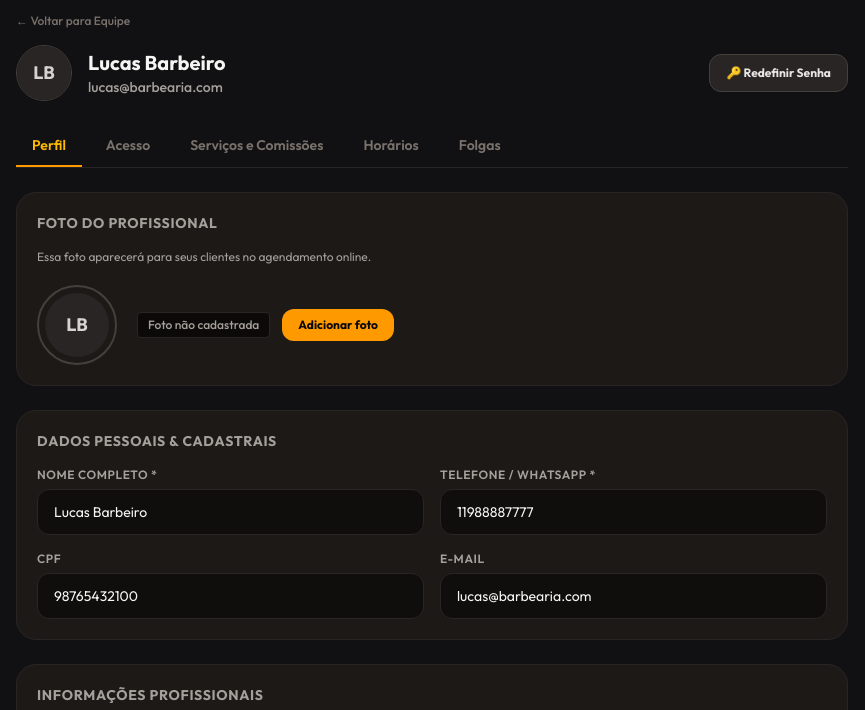
TEM BARBER — Gate P2-UX: Simplificação de Comissões › 4. Presets baseados nos CareerLevels existentes são exibidos e funcionais
Check: the heading "Lucas Barbeiro" is shown, box [88, 49, 226, 77]
Click the button "Serviços e Comissões" at (257, 146), box [174, 125, 339, 167]
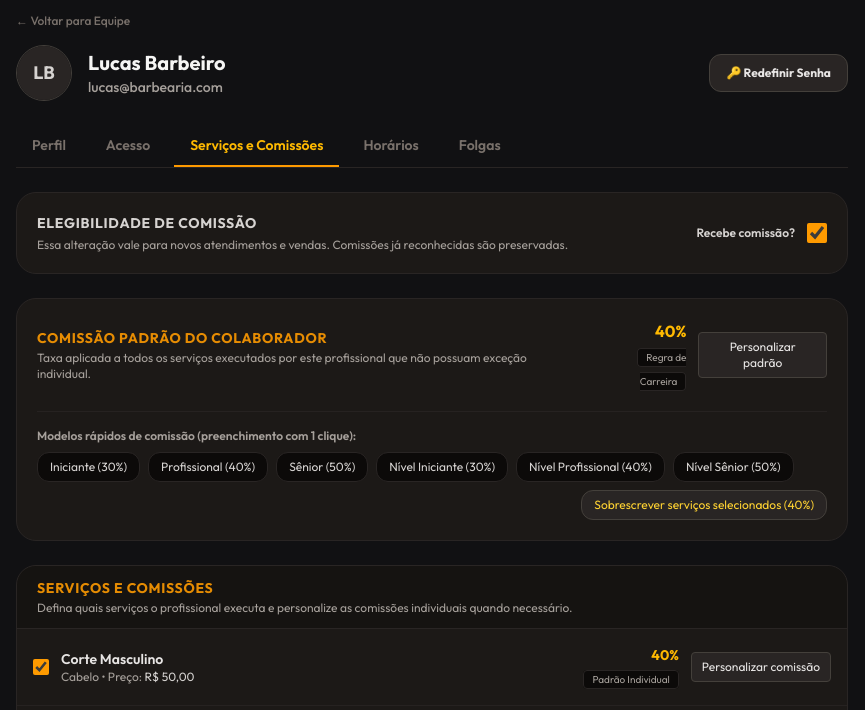
Check: the element with test id "commission-presets-section" is shown, box [37, 411, 827, 520]
Check: the button "Nível Iniciante (30%)" is shown
Click the button "Nível Iniciante (30%)" at (442, 467), box [376, 452, 508, 482]
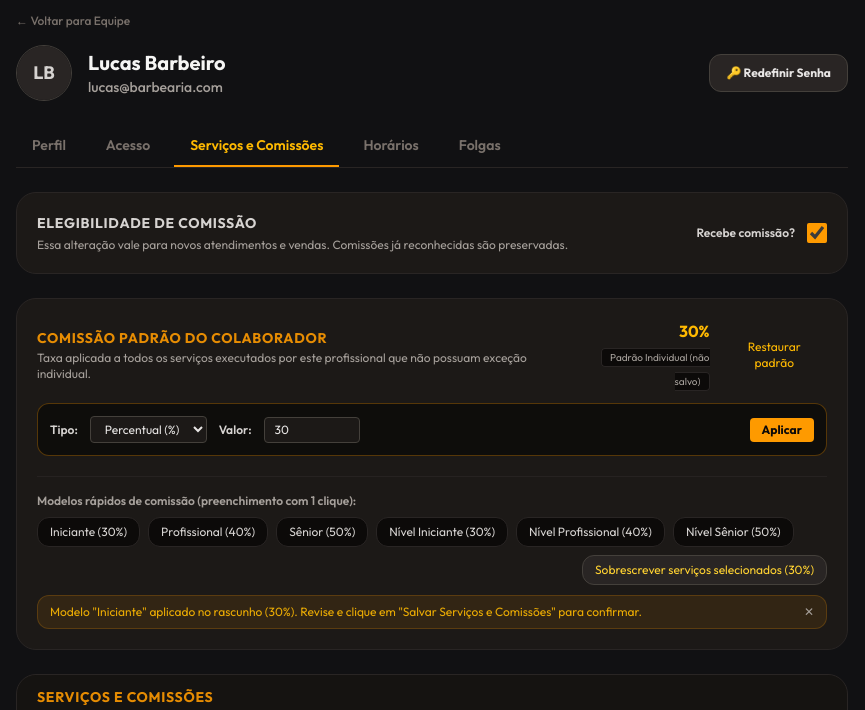
Check: the text with test id "member-default-rate" reads "30%", box [679, 321, 710, 341]
